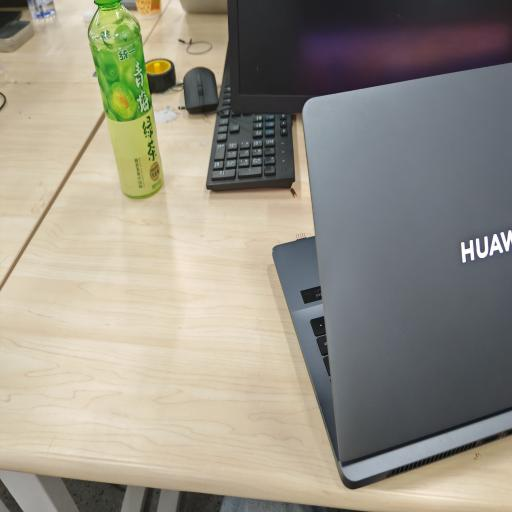laptop: (273, 64, 512, 488)
mouse: (183, 67, 219, 113)
